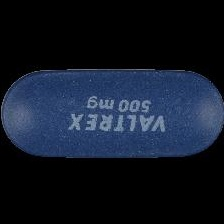49999-486: (0, 0, 224, 224)
